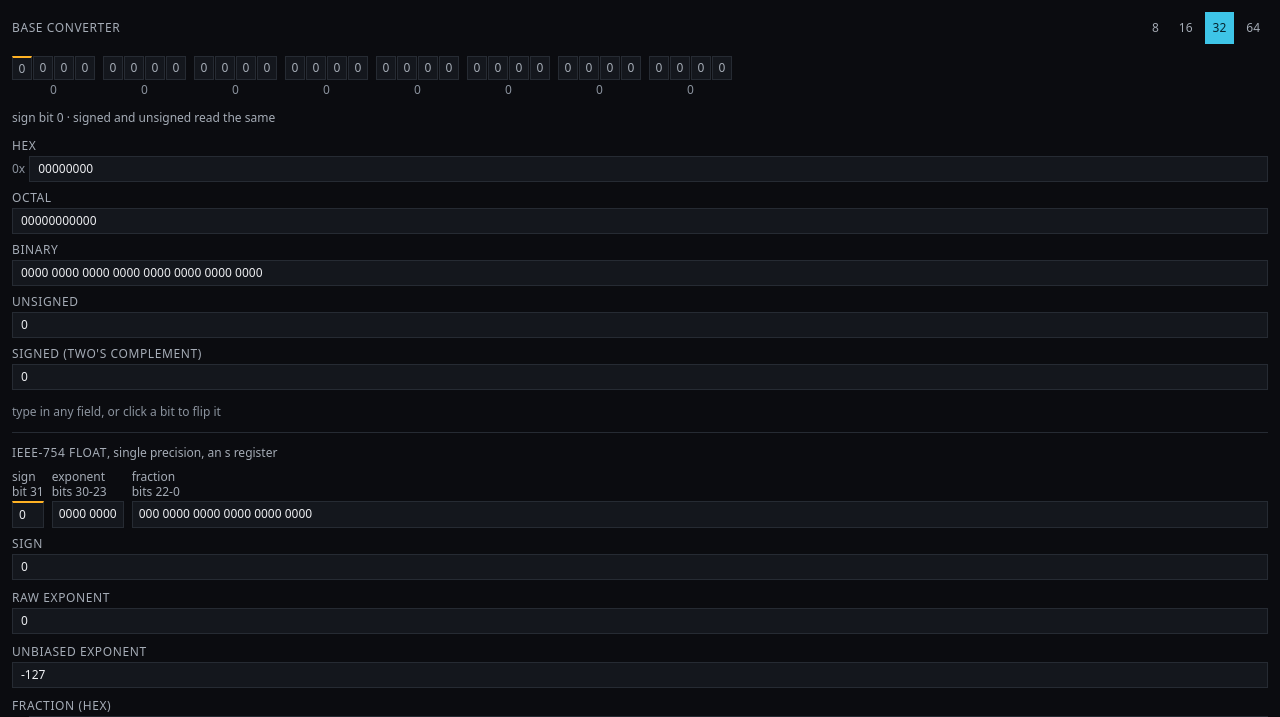
Test: BaseConverter sync › typing unsigned and binary sync the other fields
The width and height of the screenshot is (1280, 717).
Click the button named "8 bits" at (1155, 28), box [1144, 12, 1167, 44]
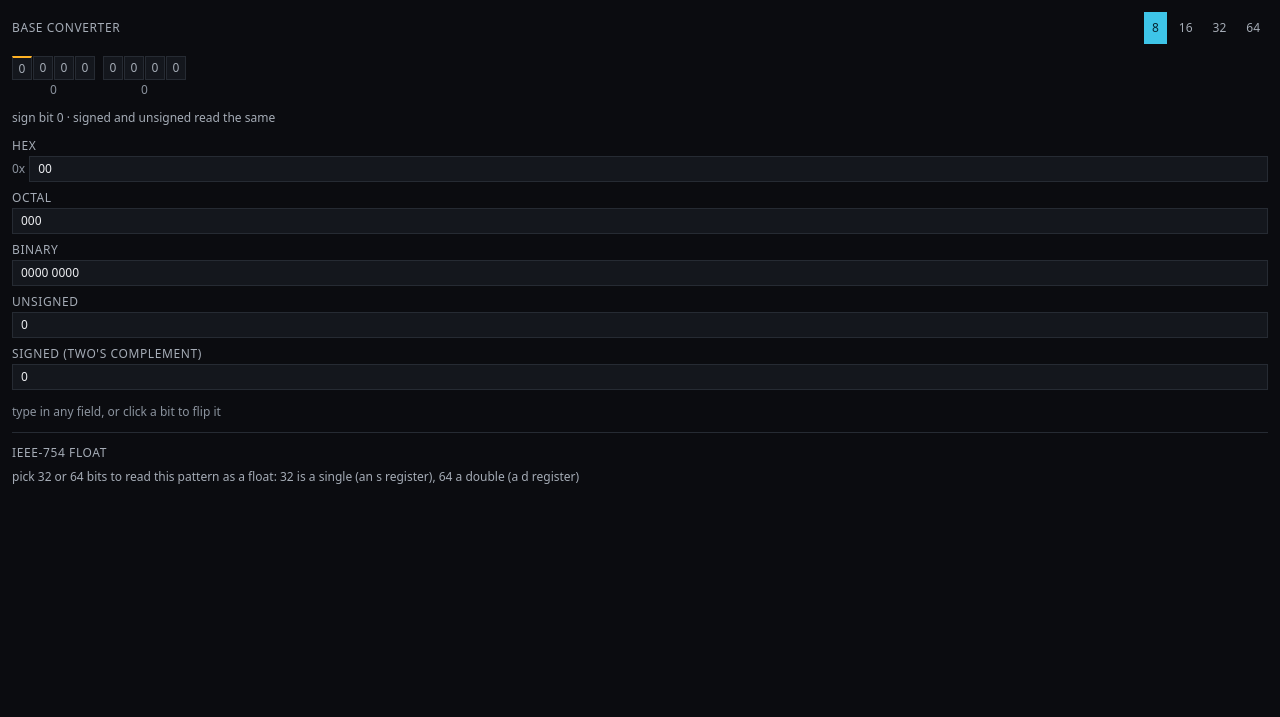
Replace the text in the field labelled "unsigned" with "42" at (640, 325), box [12, 312, 1268, 338]
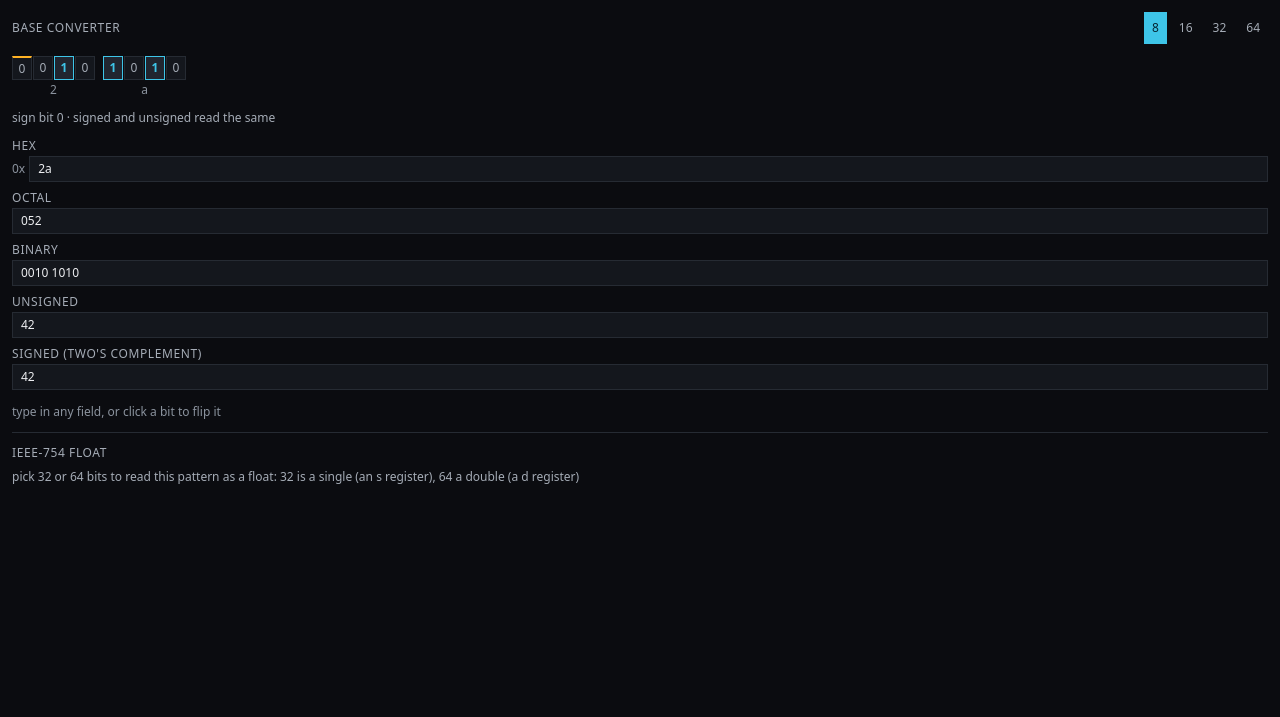
Now the field labelled "hex" holds "2a", box [29, 156, 1268, 182]
Replace the text in the field labelled "binary" with "0110 0100" at (640, 273), box [12, 260, 1268, 286]
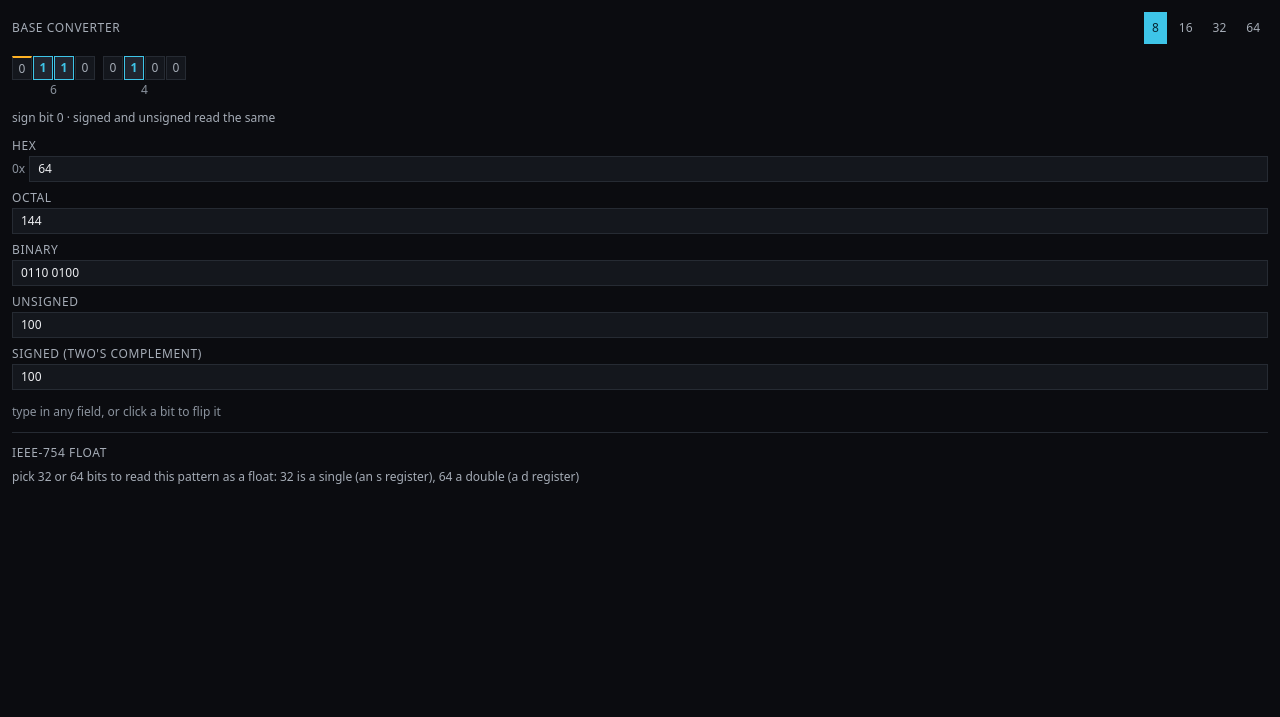
Now the field labelled "unsigned" holds "100", box [12, 312, 1268, 338]
Now the field labelled "hex" holds "64", box [29, 156, 1268, 182]
